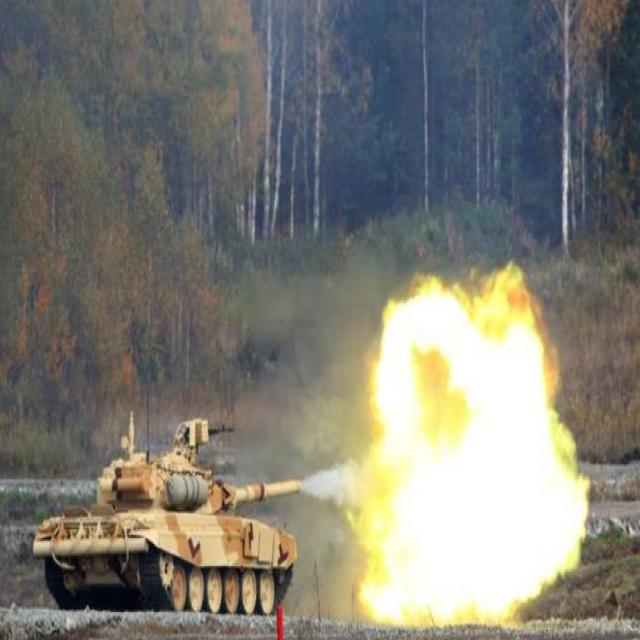Tanks: (26, 406, 306, 623)
